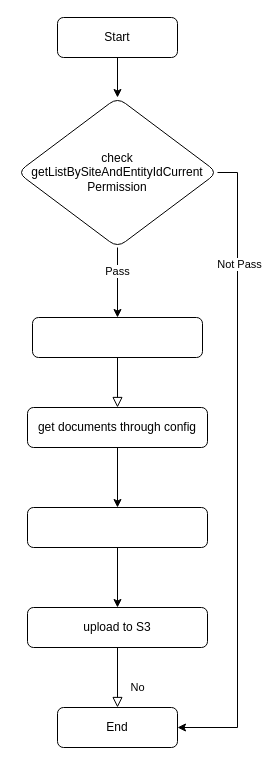
Some shapes in this 279 by 765 pixel diagram are drawn without their labels. The box of each missing label's shape, as (x1, y1, x2, y2) in pixels:
convert to csv: (26, 506, 208, 548)
Get i18n.config.js form entities/{entityType} folder: (32, 316, 202, 358)
